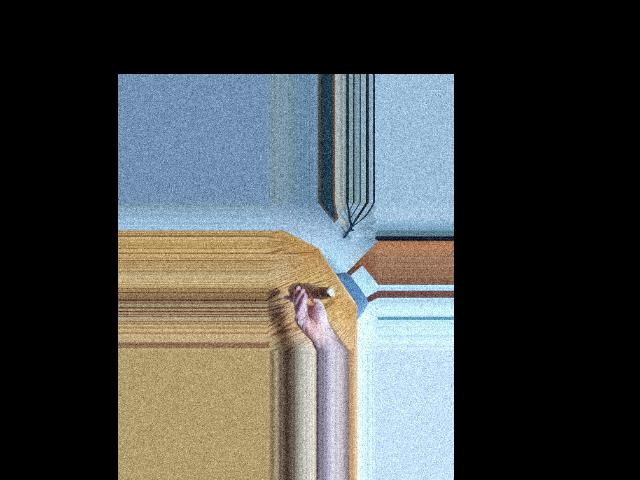sweet_potato: (292, 280, 331, 302)
